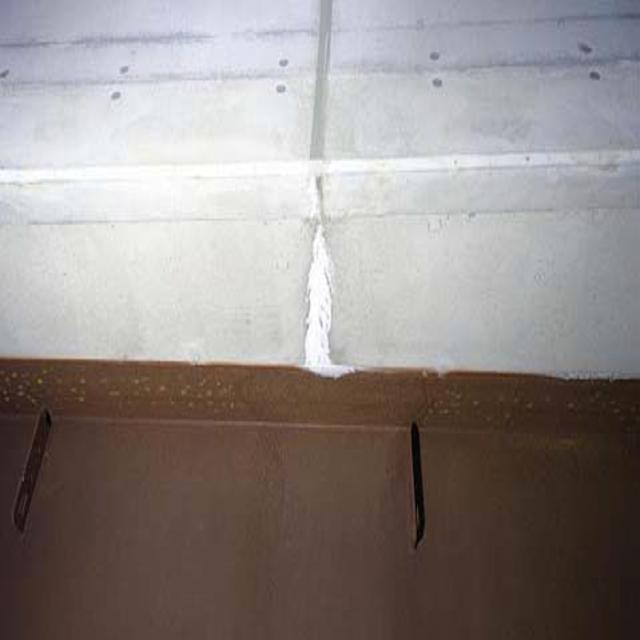freelime: (284, 224, 349, 384)
